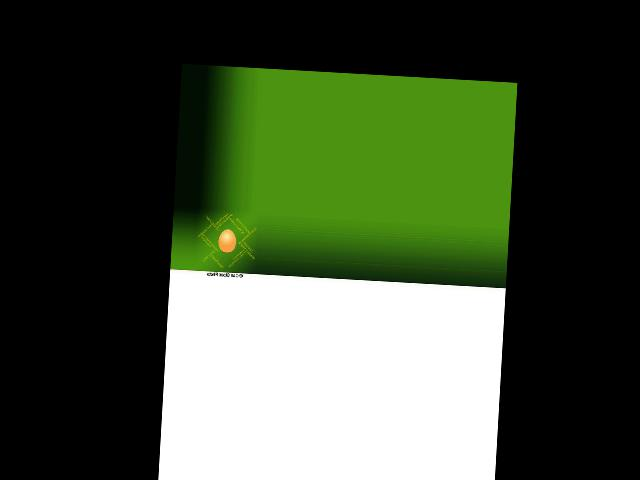egg: (217, 228, 236, 253)
